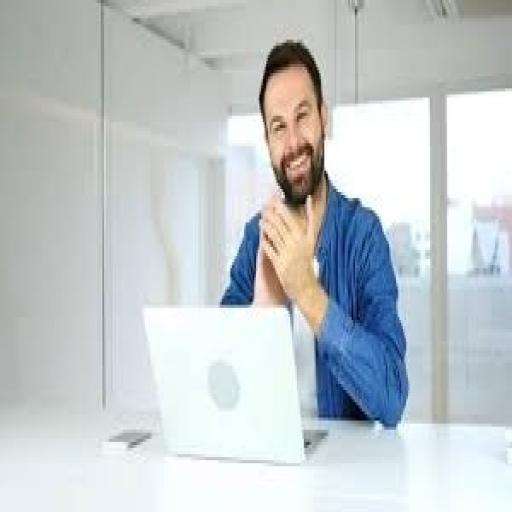clapping: (216, 36, 410, 430)
